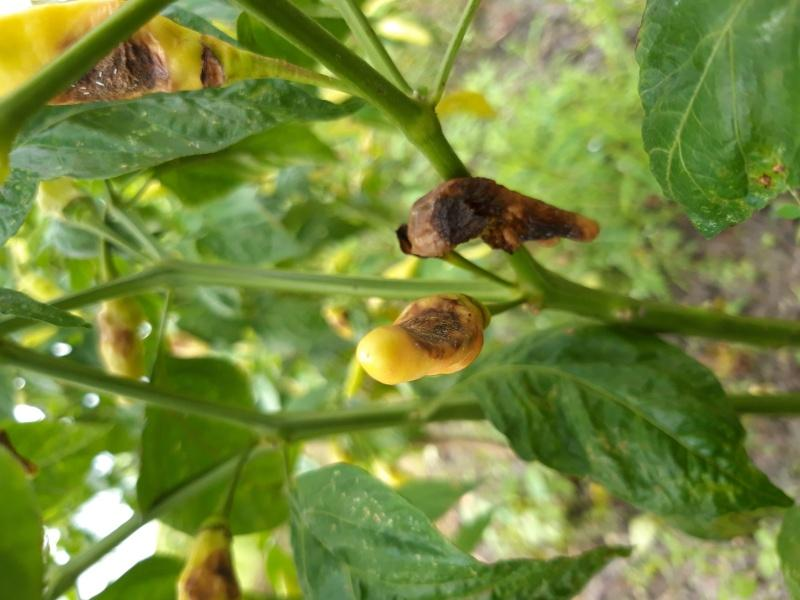antraknosa: (0, 0, 236, 108), (396, 174, 601, 256), (357, 294, 494, 385)
